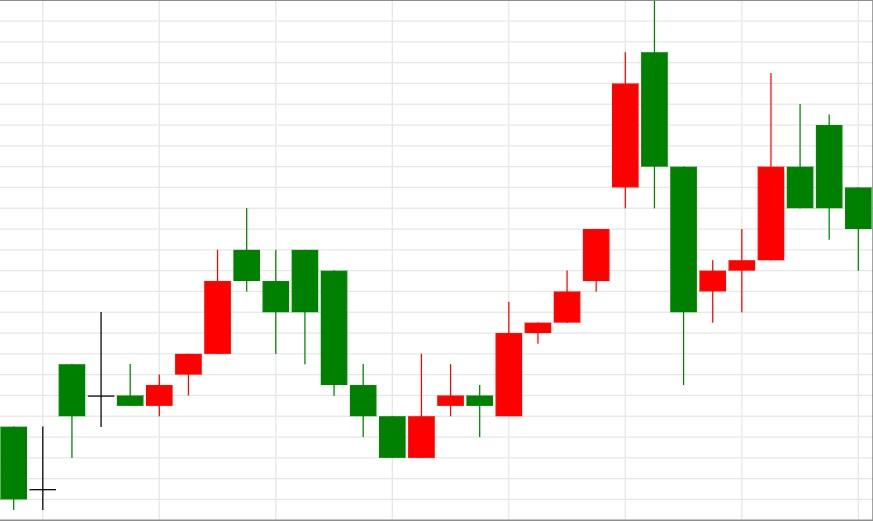bullish_engulfing_rise: (232, 208, 436, 459)
